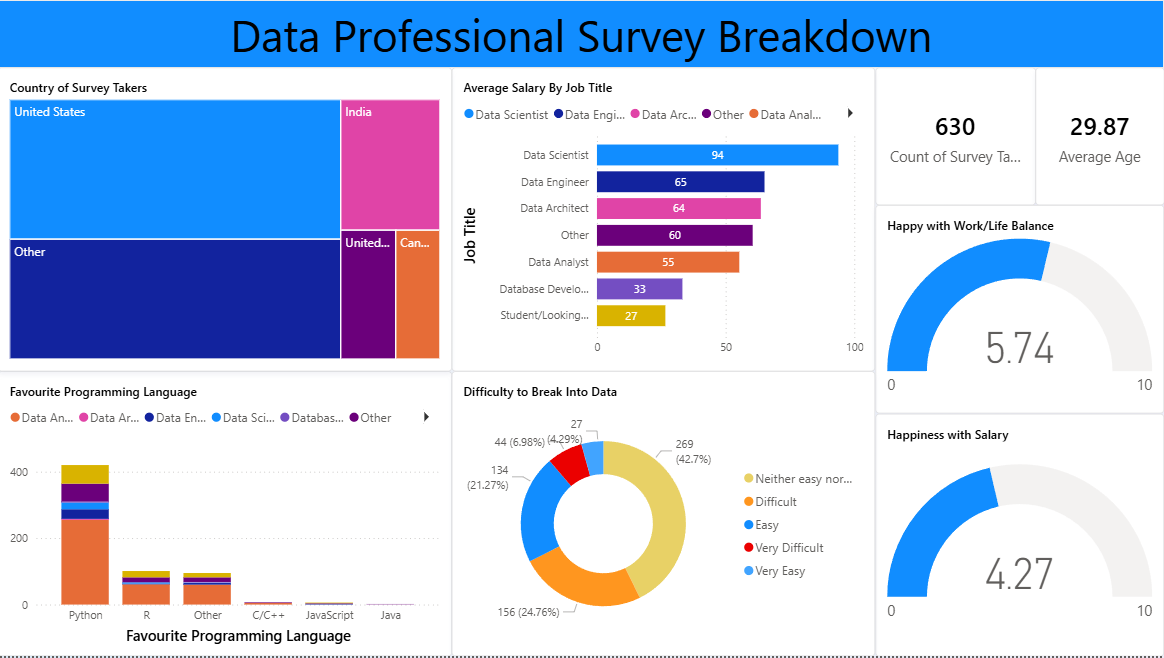

Layout of this report page (visuals, bound fields, positions):
{"tool":"powerbi","page":{"name":"Page 1","canvas":[1280,720],"ordinal":0},"visuals":[{"type":"textbox","box":[0,0,1280.3,74.1],"z":0},{"type":"card","fields":{"Values":["CountNonNull(Data Professional Survey.Unique ID)"]},"box":[963.3,74.1,175.6,150.9],"z":1000},{"type":"card","fields":{"Values":["Avg(Data Professional Survey.Q10 - Current Age)"]},"box":[1138.9,74.1,141.3,150.9],"z":1001},{"type":"barChart","title":"Average Salary By Job Title","fields":{"Category":["Data Professional Survey.Q1 - Which Title Best Fits your Current Role?.1"],"Y":["Avg(Data Professional Survey.Average Salary)"],"Series":["Data Professional Survey.Q1 - Which Title Best Fits your Current Role?.1"]},"box":[498.1,74.1,465.2,333.4],"z":1002},{"type":"columnChart","title":"Favourite Programming Language","fields":{"Category":["Data Professional Survey.Q5 - Favorite Programming Language.1"],"Y":["CountNonNull(Data Professional Survey.Unique ID)"],"Series":["Data Professional Survey.Q1 - Which Title Best Fits your Current Role?.1"]},"box":[0,407.5,498.1,312.9],"z":1003},{"type":"treemap","title":"Country of Survey Takers","fields":{"Group":["Data Professional Survey.Q11 - Which Country do you live in?.1"],"Values":["CountNonNull(Data Professional Survey.Q11 - Which Country do you live in?.1)"]},"box":[0,74.1,498.1,333.4],"z":1004},{"type":"gauge","title":"Happy with Work/Life Balance","fields":{"Y":["Avg(Data Professional Survey.Q6 - How Happy are you in your Current Position with the following? (Work/Life Balance))"],"MinValue":["Min(Data Professional Survey.Q6 - How Happy are you in your Current Position with the following? (Work/Life Balance))1"],"MaxValue":["Max(Data Professional Survey.Q6 - How Happy are you in your Current Position with the following? (Work/Life Balance))2"]},"box":[963.3,225,317,229.2],"z":1005},{"type":"gauge","title":"Happiness with Salary","fields":{"Y":["Avg(Data Professional Survey.Q6 - How Happy are you in your Current Position with the following? (Salary))"],"MinValue":["Min(Data Professional Survey.Q6 - How Happy are you in your Current Position with the following? (Salary))"],"MaxValue":["Max(Data Professional Survey.Q6 - How Happy are you in your Current Position with the following? (Salary))"]},"box":[963.3,454.2,317,266.2],"z":1006},{"type":"donutChart","title":"Difficulty to Break Into Data","fields":{"Category":["Data Professional Survey.Q7 - How difficult was it for you to break into Data?"],"Y":["CountNonNull(Data Professional Survey.Q7 - How difficult was it for you to break into Data?)"]},"box":[498.1,407.5,465.2,312.9],"z":1007}]}

Visuals, with their boxes in screenshot pixels (x1, y1, x2, y2), scaled from the page's 1280x720 canvas onto the 1164x658 screenshot:
textbox: 0,0,1163,68
card - CountNonNull(Data Professional Survey.Unique ID): 876,68,1036,206
card - Avg(Data Professional Survey.Q10 - Current Age): 1036,68,1163,206
"Average Salary By Job Title" barChart: 453,68,876,372
"Favourite Programming Language" columnChart: 0,372,453,657
"Country of Survey Takers" treemap: 0,68,453,372
"Happy with Work/Life Balance" gauge: 876,206,1163,415
"Happiness with Salary" gauge: 876,415,1163,657
"Difficulty to Break Into Data" donutChart: 453,372,876,657
